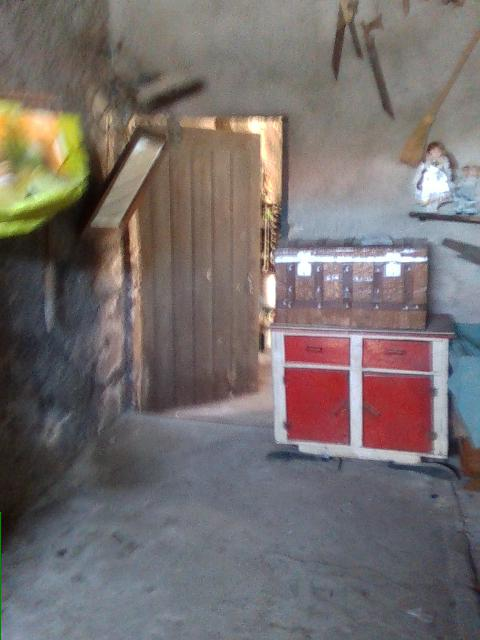semi_door: (124, 117, 285, 426)
